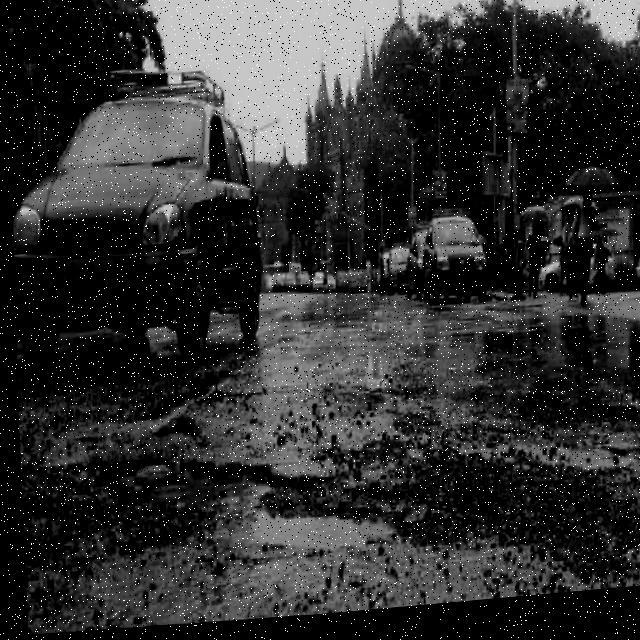pothole: (75, 442, 292, 538), (212, 508, 392, 571)
